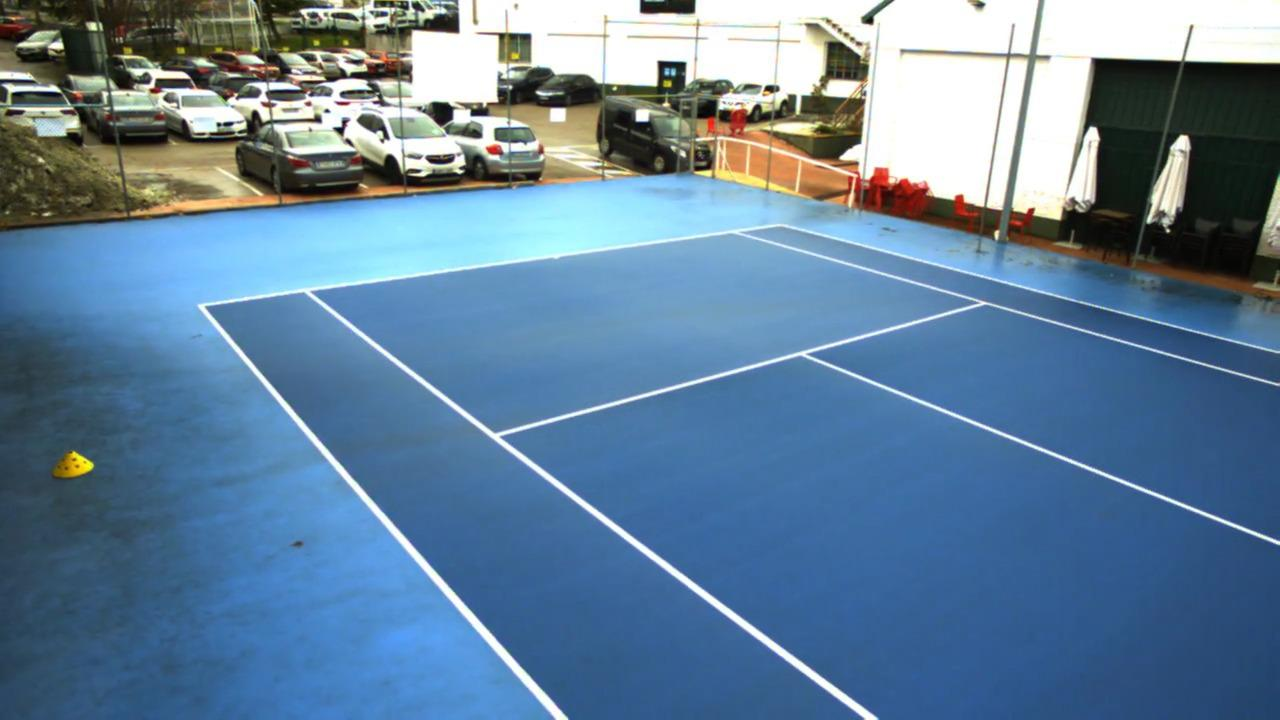cancha_tenis: (306, 227, 1280, 720)
point_f1: (294, 280, 329, 305)
point_f2: (726, 223, 749, 241)
point_fc1: (545, 247, 569, 264)
point_i1: (480, 423, 519, 450)
point_i2: (964, 294, 998, 317)
point_ic1: (790, 340, 821, 365)
